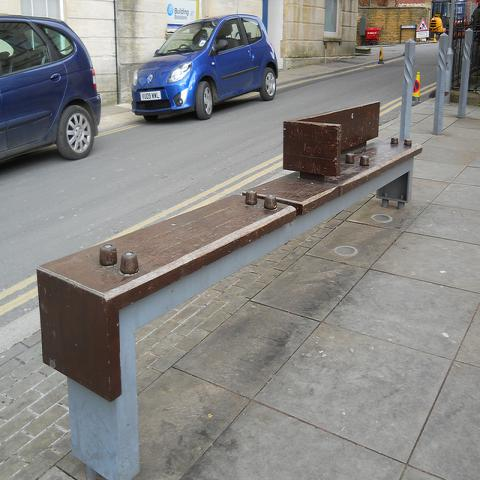car: (0, 13, 102, 164), (133, 16, 279, 119)
